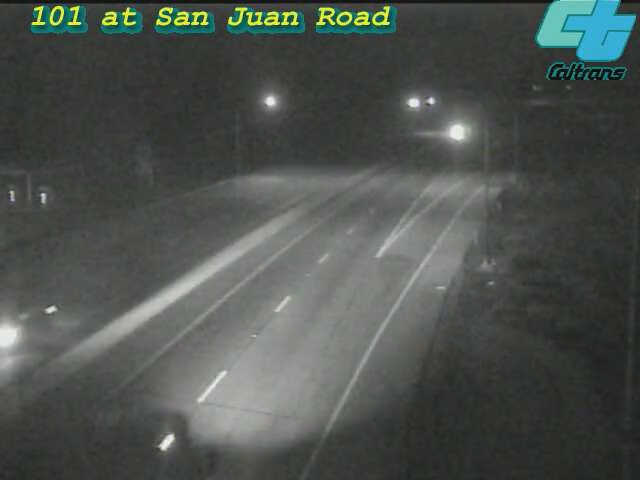vehicle: (73, 406, 183, 480), (1, 280, 63, 390), (430, 106, 480, 156)
